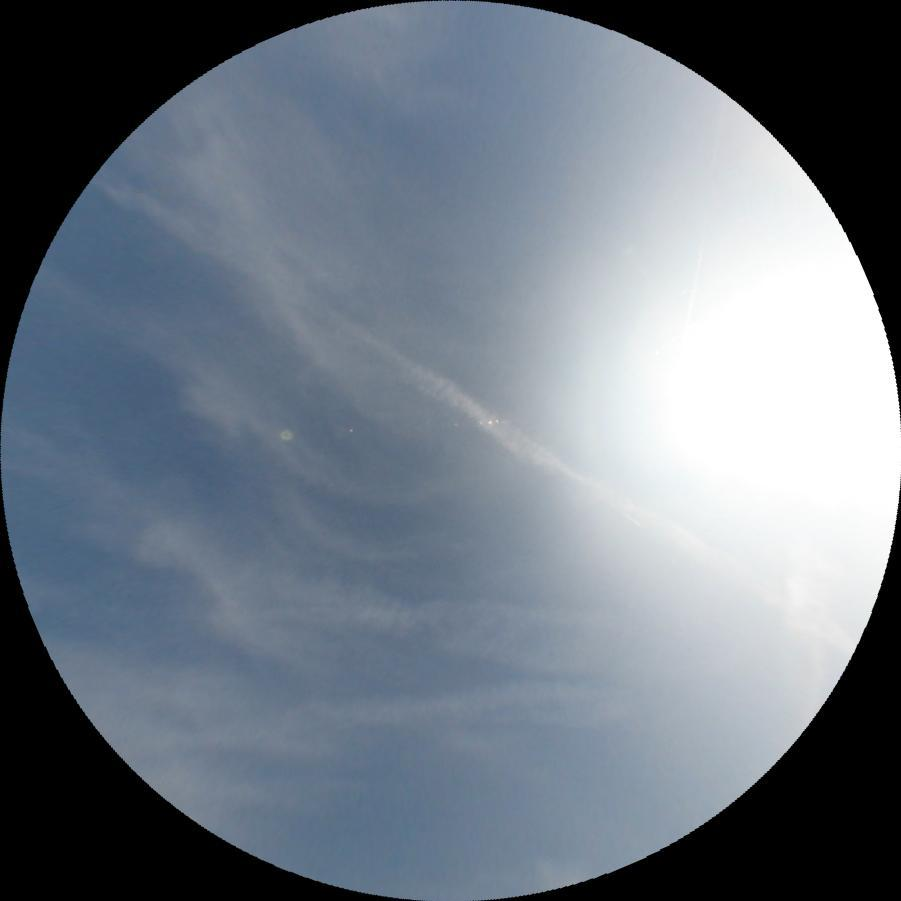contrail veryold: (91, 163, 862, 662), (265, 572, 638, 682), (308, 675, 633, 732)
contrail young: (690, 97, 729, 296), (608, 502, 646, 529)
sun: (635, 243, 901, 541)
